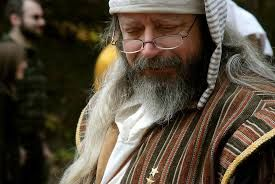no-mask: (106, 5, 209, 102)
